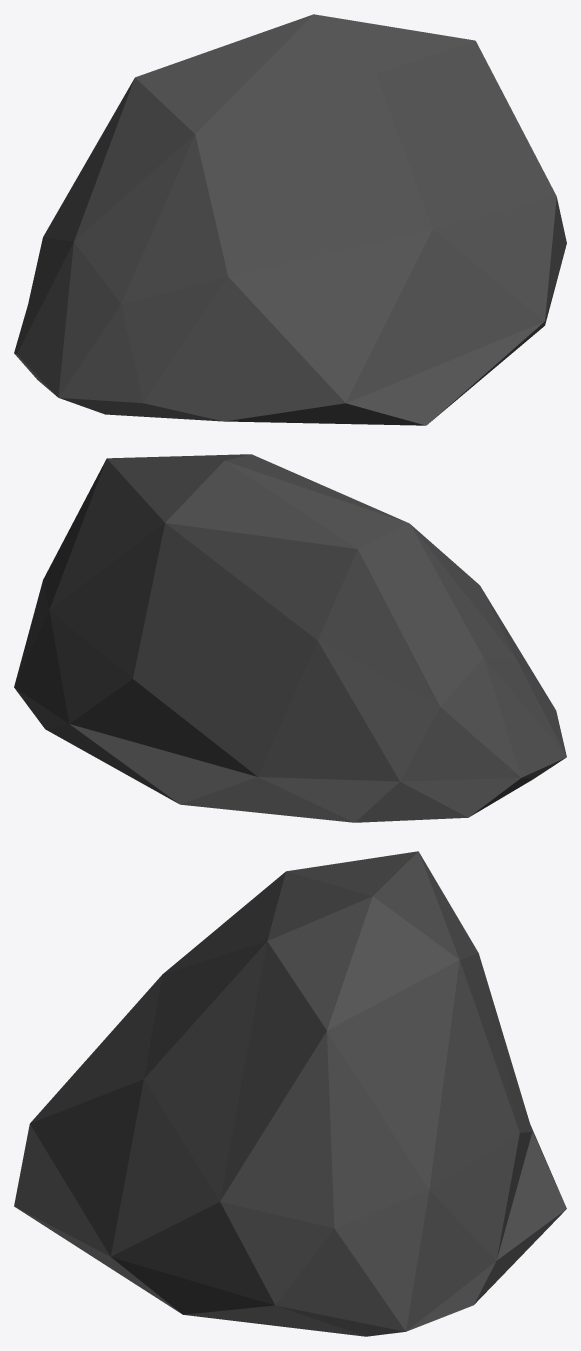
File: Rock_04.fbx
3 views of the same model, one above another, from view 1: azimuth 30°, elevation 25°; view 2: azimuth 150°, elevation 25°; view 3: azimuth 270°, elevation 25° (orthographic). The views are drawn at different scales.
Visible parts, largest first — view 1: Rock_04; view 2: Rock_04; view 3: Rock_04.
Part boxes in pixels (<box>): Rock_04: <box>14,14,566,425</box>; Rock_04: <box>14,454,566,822</box>; Rock_04: <box>14,851,566,1336</box>.
Size of the model in its own units: 7.31 by 3.88 by 5.83.
